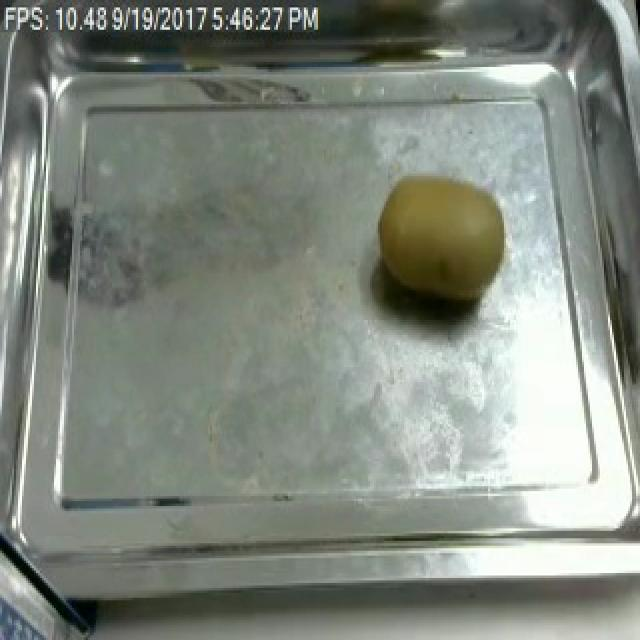Fruit: (368, 164, 518, 320)
